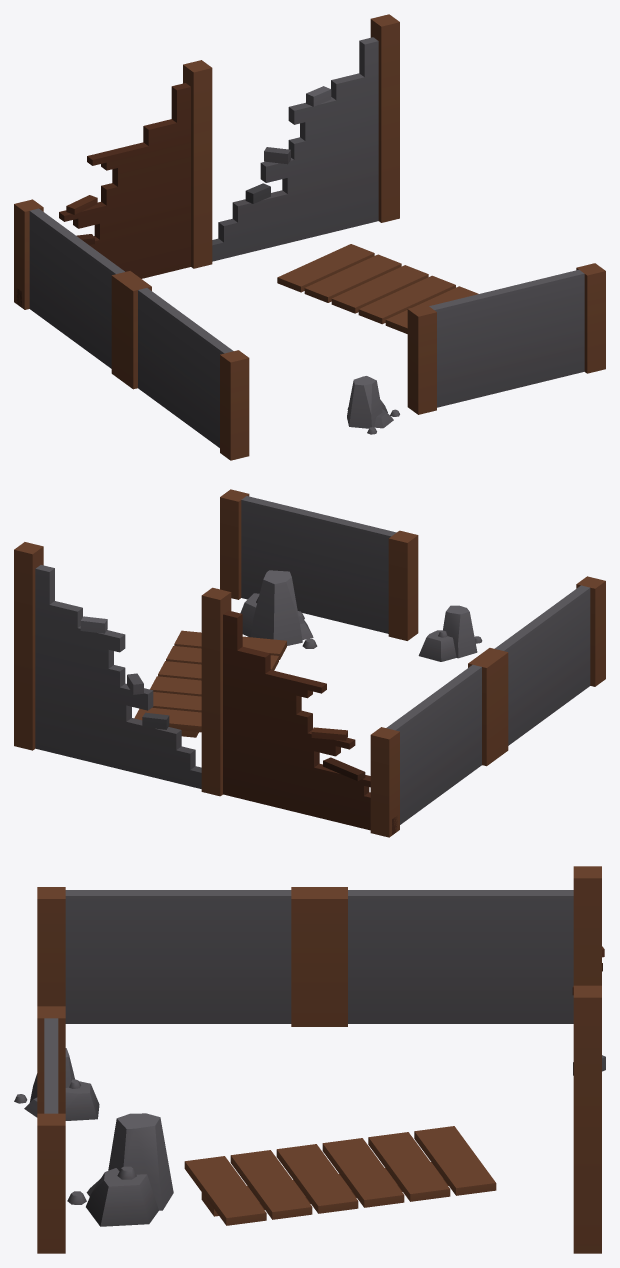
Rendered from maison-ruine-2.glb.
3 renders of one model, top to bottom at view 1: azimuth 30°, elevation 25°; view 2: azimuth 150°, elevation 25°; view 3: azimuth 270°, elevation 25°, orthographic. The views are drawn at different scales.
Parts seen in each view (by area): view 1: wall-wood-broken; view 2: wall-wood-broken; view 3: wall-wood-broken.
Boxes of the visible parts, <box> form: wall-wood-broken: <box>14,14,605,460</box>; wall-wood-broken: <box>14,489,605,837</box>; wall-wood-broken: <box>14,866,605,1253</box>.
Size of the model in its own units: 6 by 3 by 6.29.
Materials: 1 (1 with a texture image).
